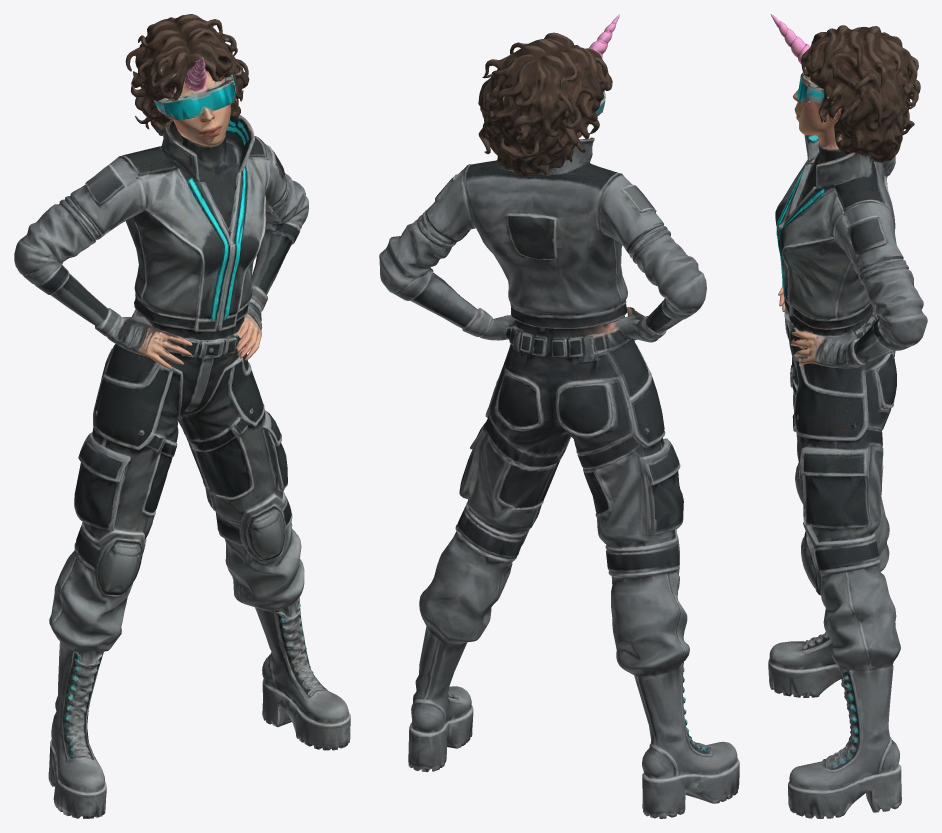
File: chr_mariaclara_hero_desktop.glb
3 renders of one model, left to right at view 1: azimuth 30°, elevation 25°; view 2: azimuth 150°, elevation 25°; view 3: azimuth 270°, elevation 25°, orthographic. The views are drawn at different scales.
Size of the model in its own units: 0.8211 by 1.9 by 0.3786.
1 material, 1 textured.
